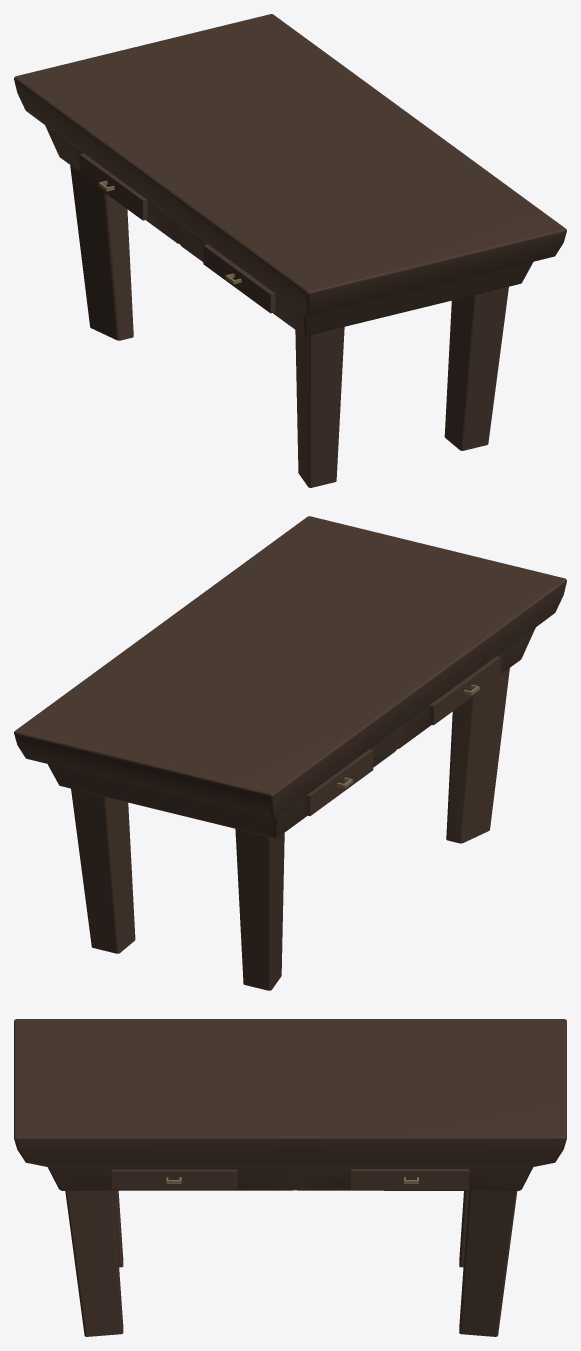
Rendered from tafel_nieuwestijl.fbx.
3 views of the same model, one above another, from view 1: azimuth 30°, elevation 25°; view 2: azimuth 150°, elevation 25°; view 3: azimuth 270°, elevation 25° (orthographic). The views are drawn at different scales.
Visible parts, largest first — view 1: pCube108; view 2: pCube108; view 3: pCube108.
Boxes of the visible parts, x1,y1,x2,y2 form: pCube108: (14, 14, 566, 487); pCube108: (14, 516, 566, 990); pCube108: (14, 1019, 566, 1336).
Size of the model in its own units: 1.84 by 1.58 by 3.61.
